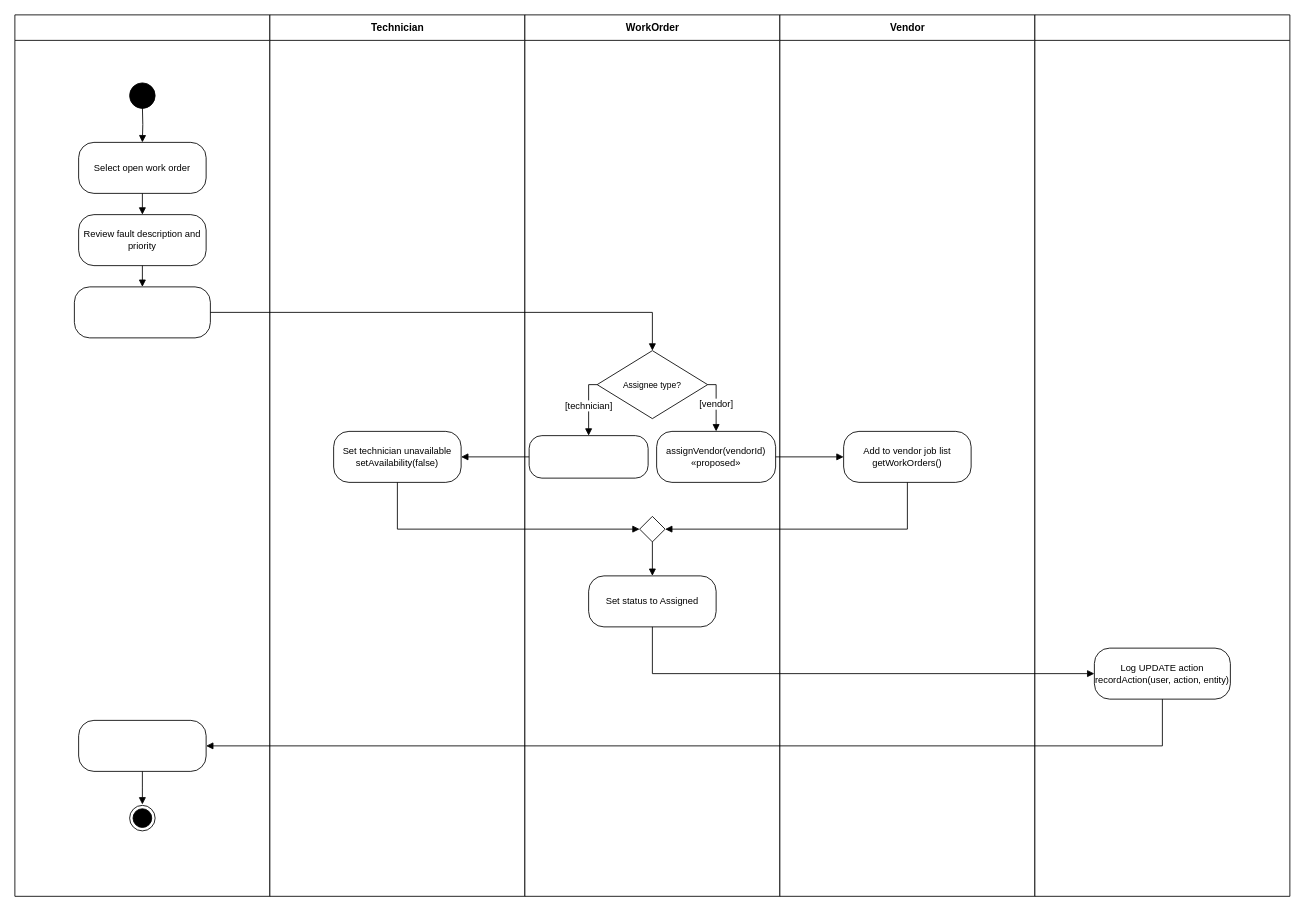
The diagram is 1305 pixels wide and 911 high, and some of its shapes have lost their labels. The box of each missing label's shape, as (x1, y1, x2, y2) in pixels:
assignTechnician(id): (528, 435, 648, 478)
AuditLog: (1034, 14, 1290, 896)
Clinical Supervisor: (14, 14, 270, 896)
Receive assignment confirmation: (78, 720, 206, 771)
Select assignee (technician or external vendor): (74, 286, 210, 338)
